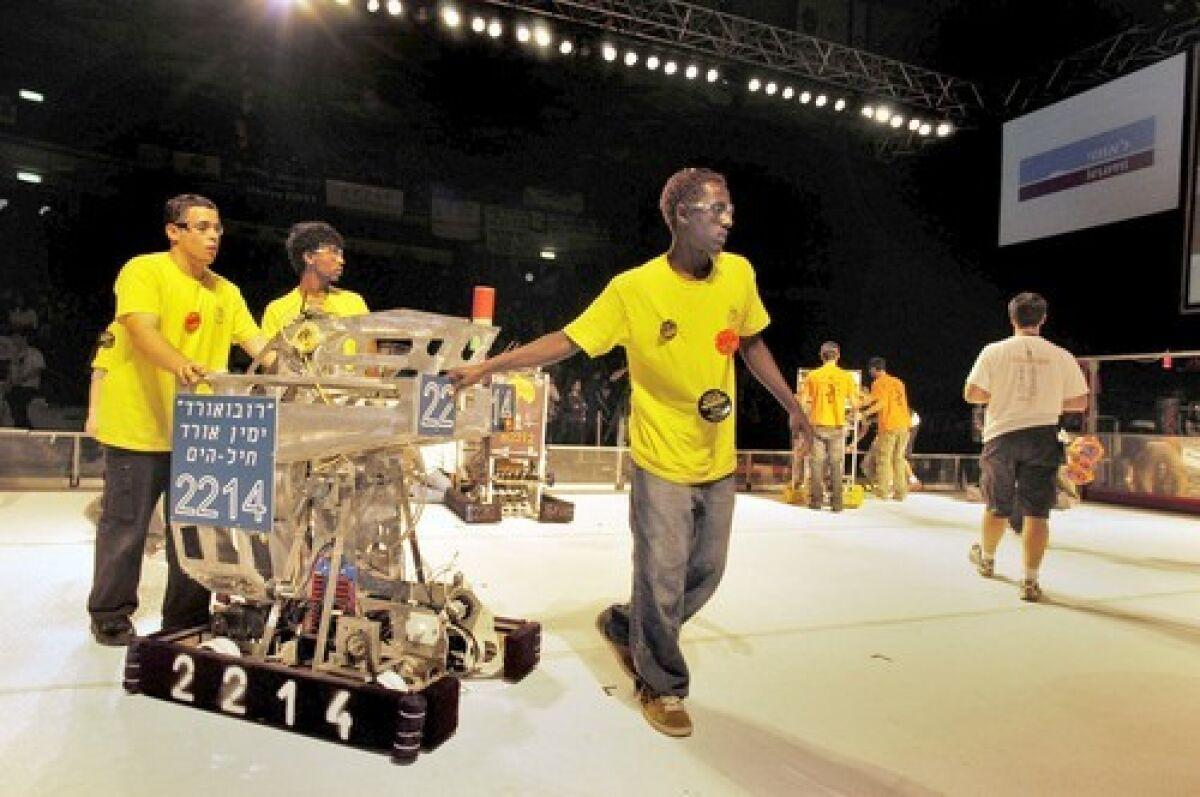robot: (120, 307, 544, 773), (439, 346, 580, 536)
